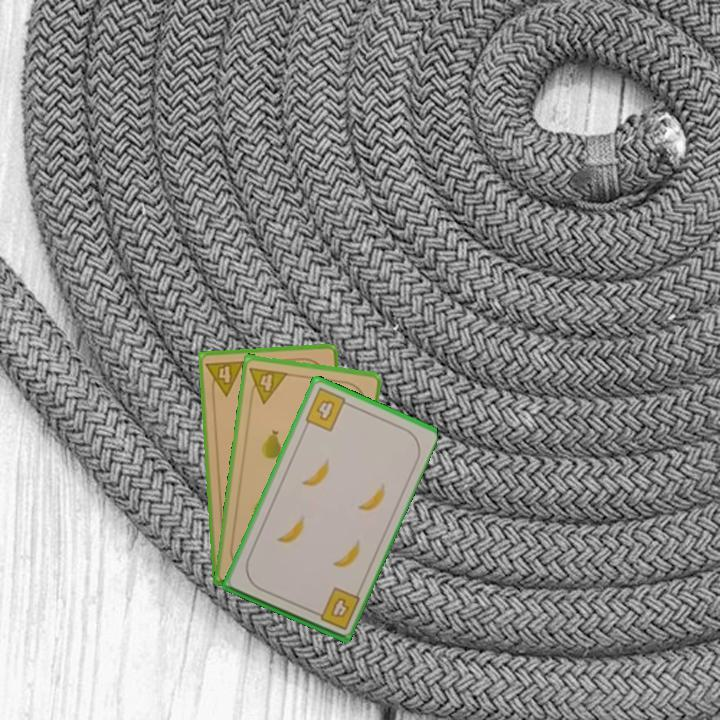4b: (301, 384, 354, 434), (308, 584, 362, 633)
4p: (246, 363, 291, 405), (203, 357, 247, 399)
